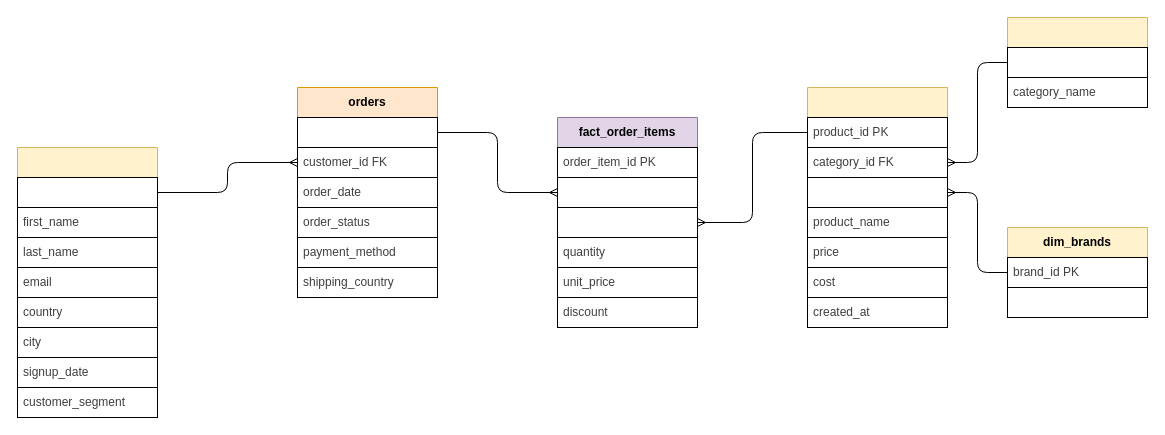
Some shapes in this 1165 by 435 pixel diagram are drawn without their labels. Here are the shapes that lost their labels. From the top down, the box of each, then its label:
(1006, 46, 1148, 78): category_id PK
(1006, 16, 1148, 108): dim_categories
(296, 116, 438, 148): order_id PK
(16, 176, 158, 208): customer_id PK
(556, 176, 698, 208): order_id FK
(806, 176, 948, 208): brand_id FK
(806, 86, 948, 328): dim_products
(556, 206, 698, 238): product_id FK
(16, 146, 158, 418): dim_customers
(1006, 286, 1148, 318): brand_name
